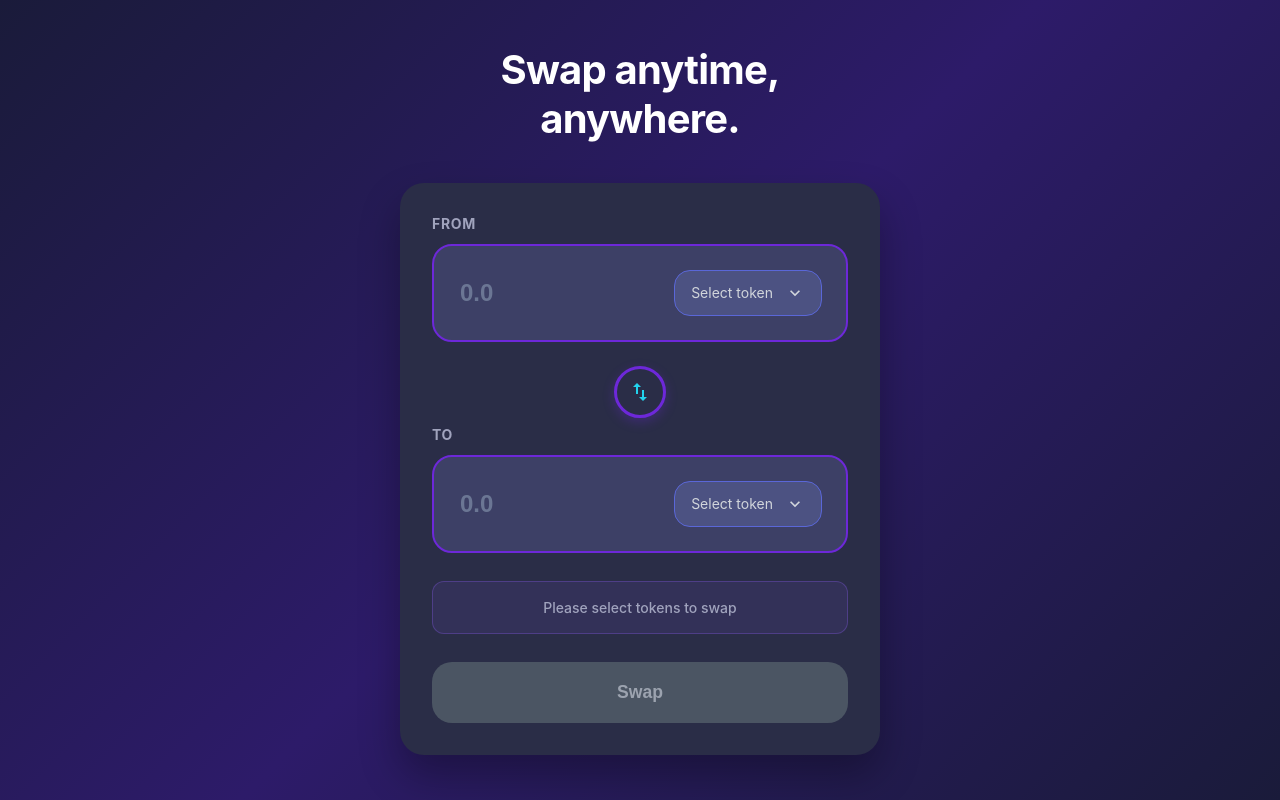
Test: App › opens token selection modal
Click the text "Select token" below "From": (732,293) top-left (691, 284), bottom-right (773, 301)
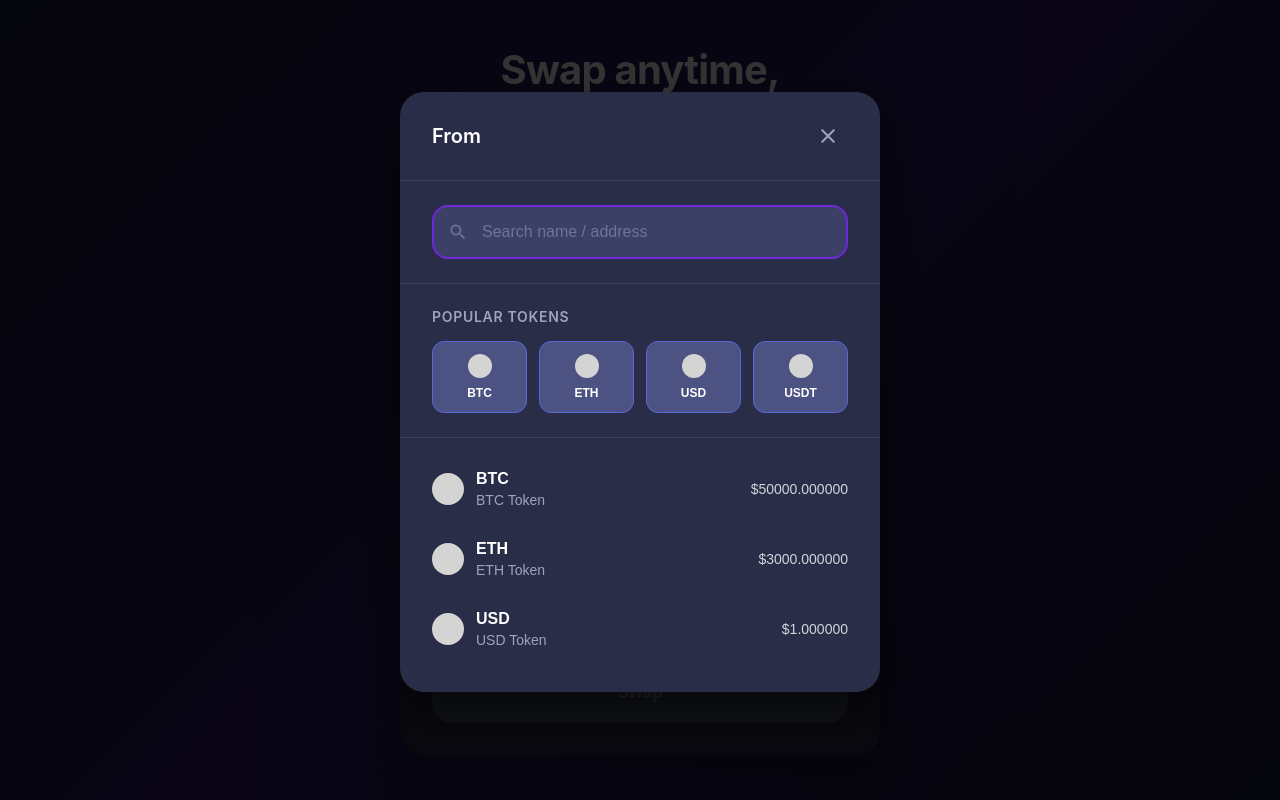
Result: the field with placeholder "Search name / address" is shown at top-left (432, 205), bottom-right (848, 259)
